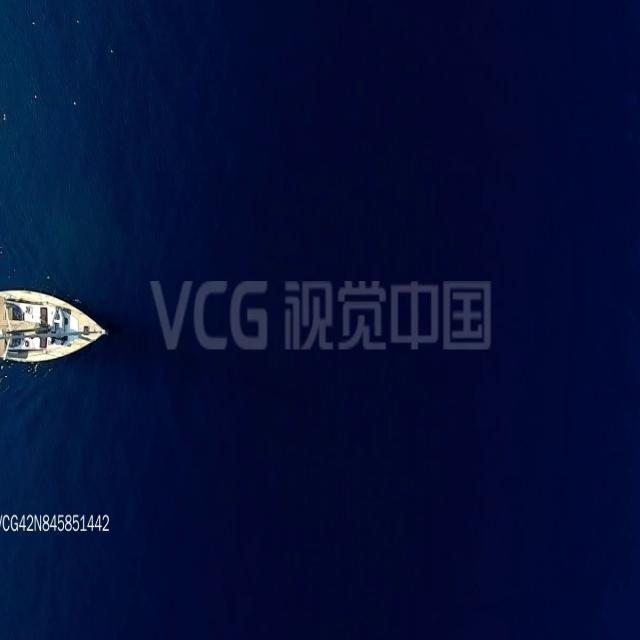sailboat: (0, 282, 110, 369)
